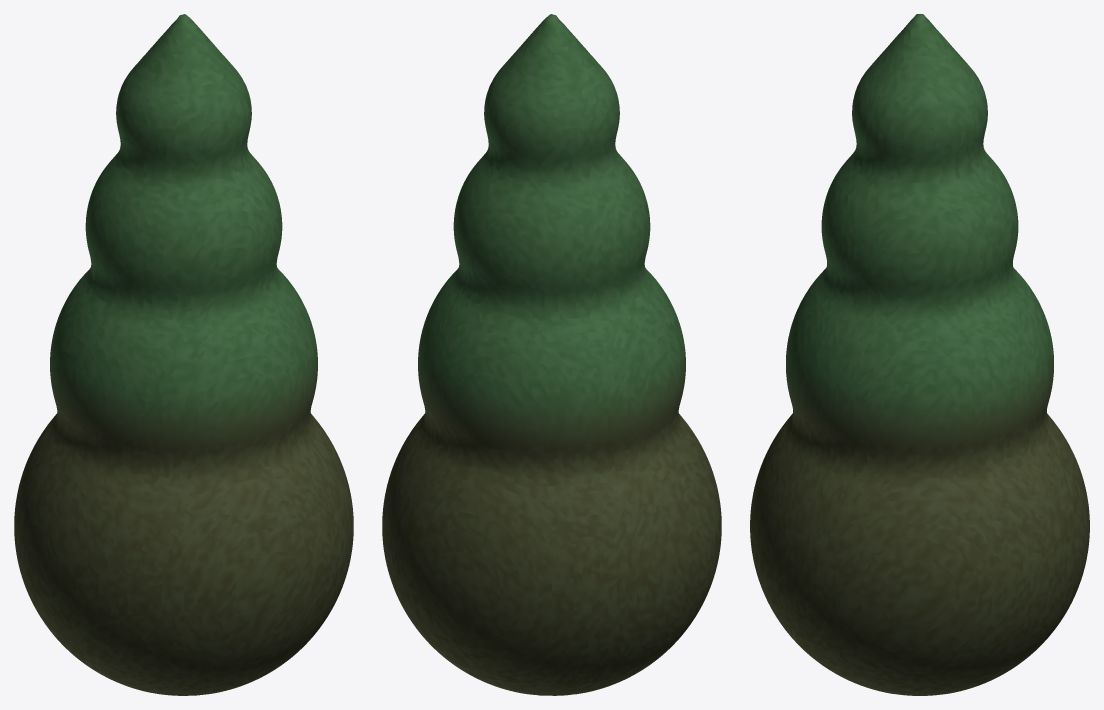
File: pine.glb
3 renders of one model, left to right at view 1: azimuth 30°, elevation 25°; view 2: azimuth 150°, elevation 25°; view 3: azimuth 270°, elevation 25°, orthographic.
Parts seen in each view (by area): view 1: pine; view 2: pine; view 3: pine.
Part boxes in pixels (<box>): pine: <box>14,14,353,695</box>; pine: <box>382,14,721,695</box>; pine: <box>750,14,1089,695</box>.
Size of the model in its own units: 1.9 by 4 by 1.9.
